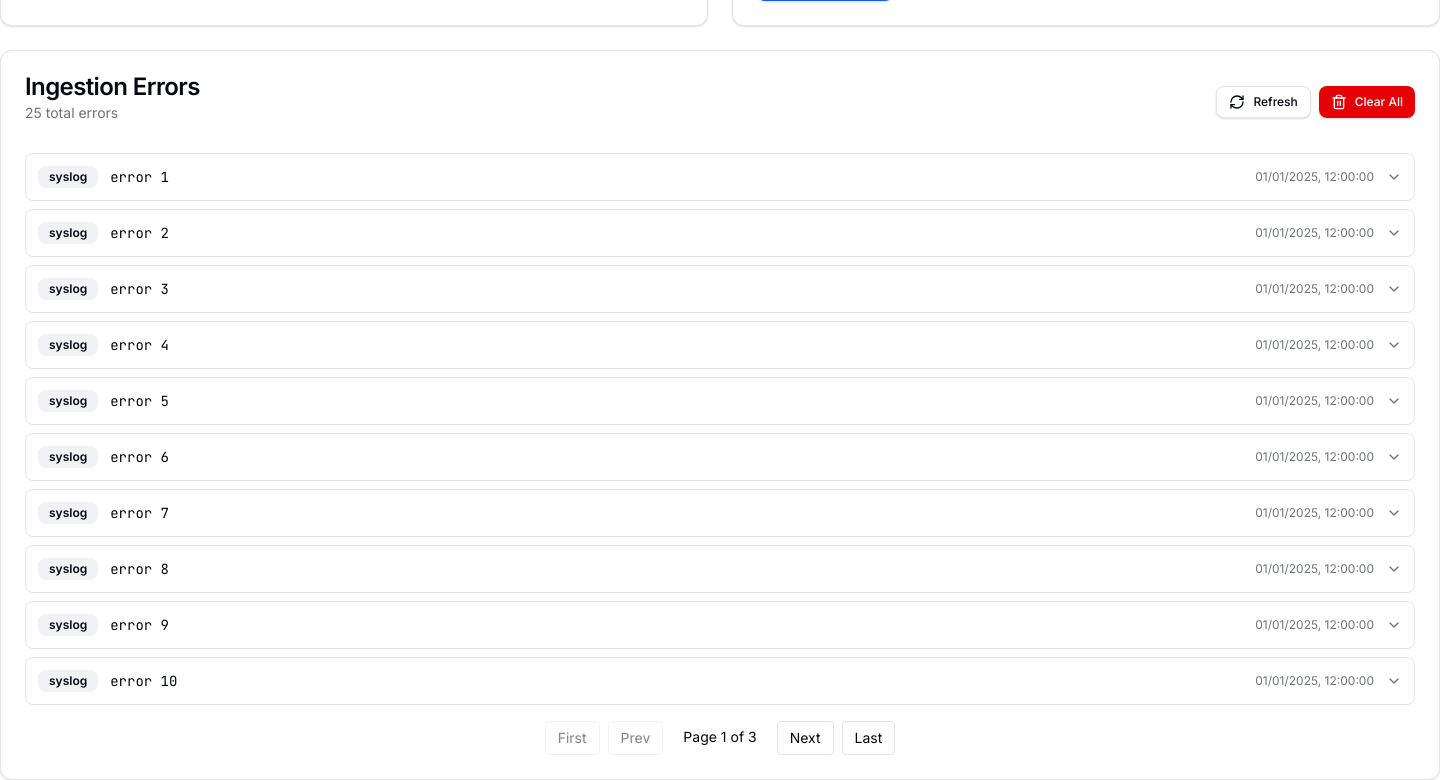
Scenario: AdminSettings - extended coverage › pagination Last button loads last page
The width and height of the screenshot is (1440, 780).
(page scrolled)
Expected: the text "Page 1 of 3" is shown, [683,728,757,745]
Click the button "Last": (868, 738) [842,721,895,755]
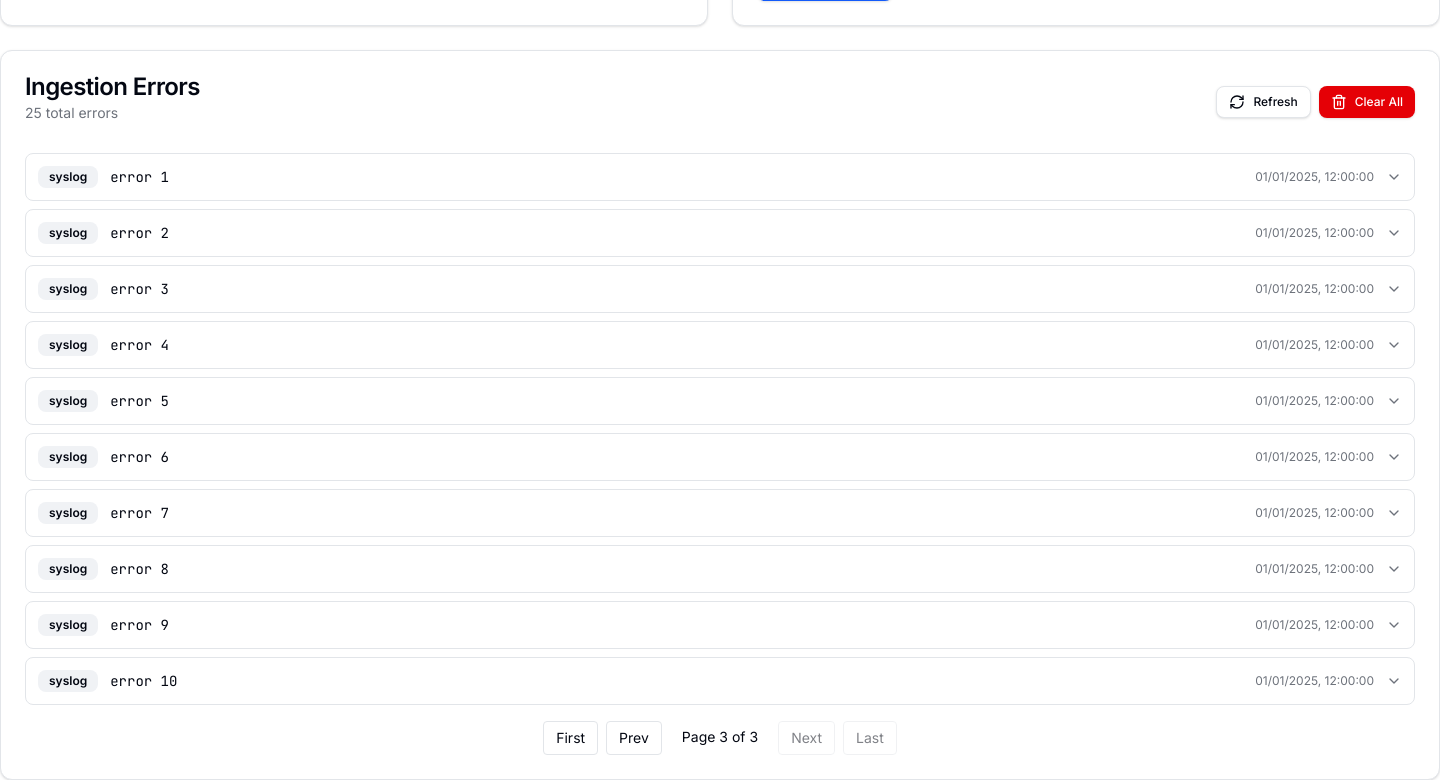
Expected: the text "Page 3 of 3" is shown, [682,728,758,745]
